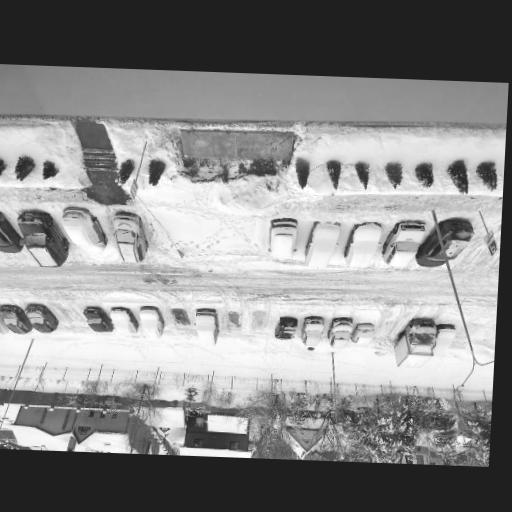busy: (388, 312, 449, 367), (421, 216, 478, 268), (16, 208, 66, 265), (61, 205, 110, 253), (106, 211, 152, 262), (381, 221, 427, 268), (341, 221, 385, 265), (304, 220, 344, 267), (263, 216, 305, 259), (192, 304, 226, 342), (22, 302, 60, 334), (296, 314, 329, 350), (432, 316, 460, 356), (325, 315, 357, 347), (0, 302, 30, 334), (0, 206, 19, 254), (137, 304, 167, 334), (81, 305, 113, 333), (347, 319, 378, 346), (108, 305, 139, 332), (274, 313, 300, 339), (0, 302, 7, 334)
free: (466, 217, 501, 266), (171, 217, 218, 251), (224, 217, 259, 253), (219, 305, 249, 338), (462, 313, 492, 344), (375, 313, 404, 343), (57, 301, 82, 326), (251, 311, 274, 337), (171, 306, 194, 330)
